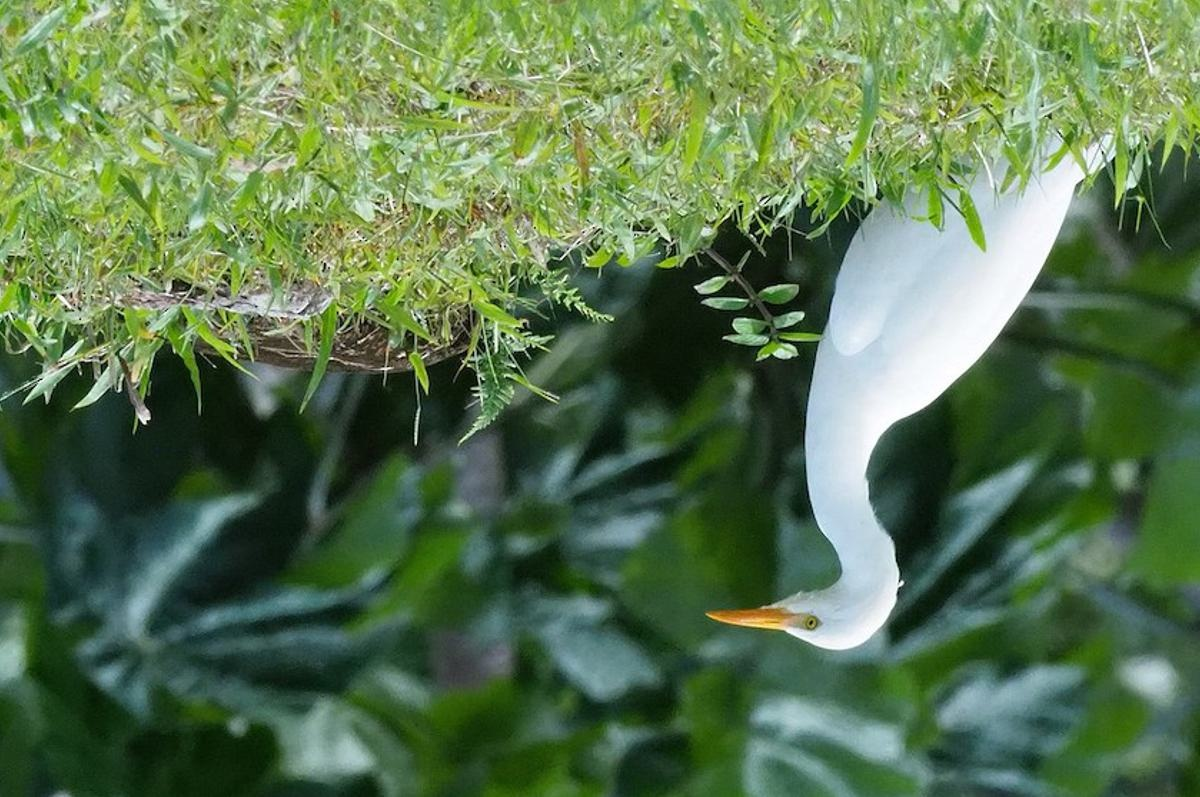egret: (708, 89, 1091, 655)
